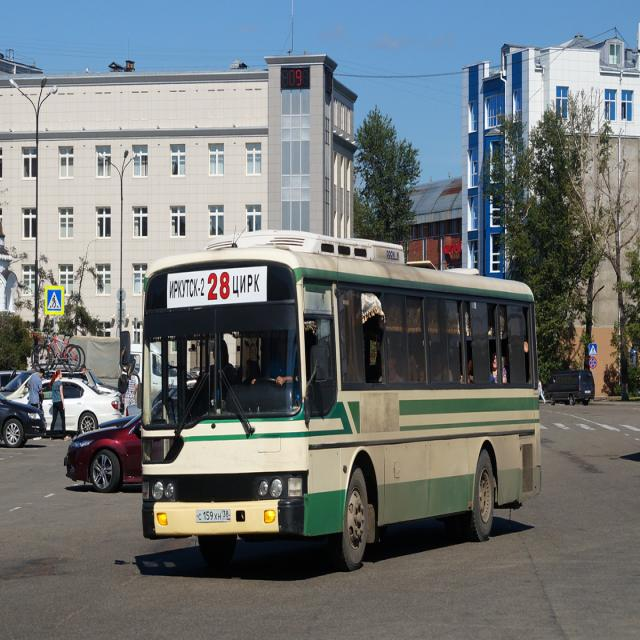number-of-bus: (208, 272, 233, 303)
